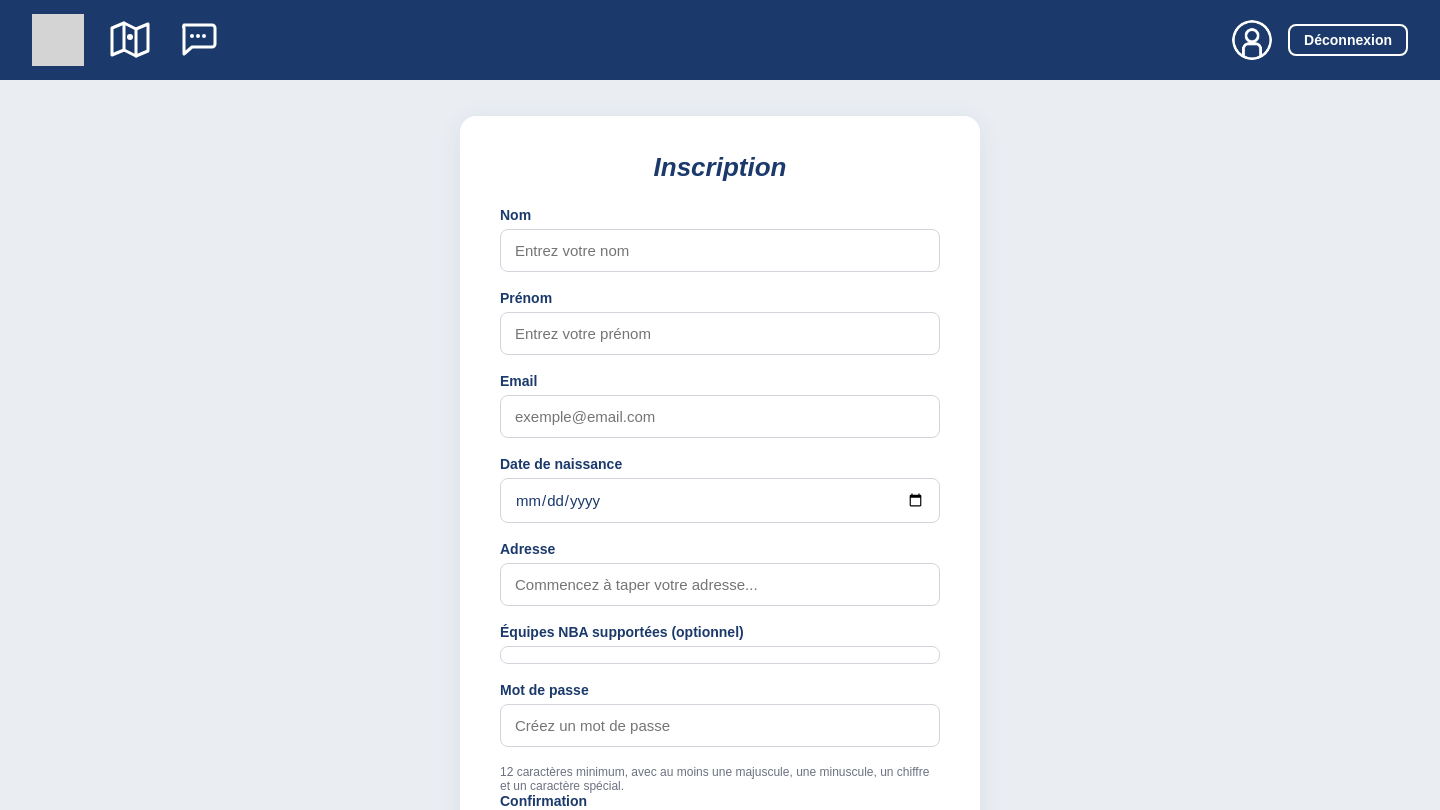
Test: RegisterPage › affiche une erreur si les mots de passe diffèrent
The image size is (1440, 810).
Type "Dupont" into the field with placeholder "Entrez votre nom" at (720, 250), box top-left (500, 229), bottom-right (940, 272)
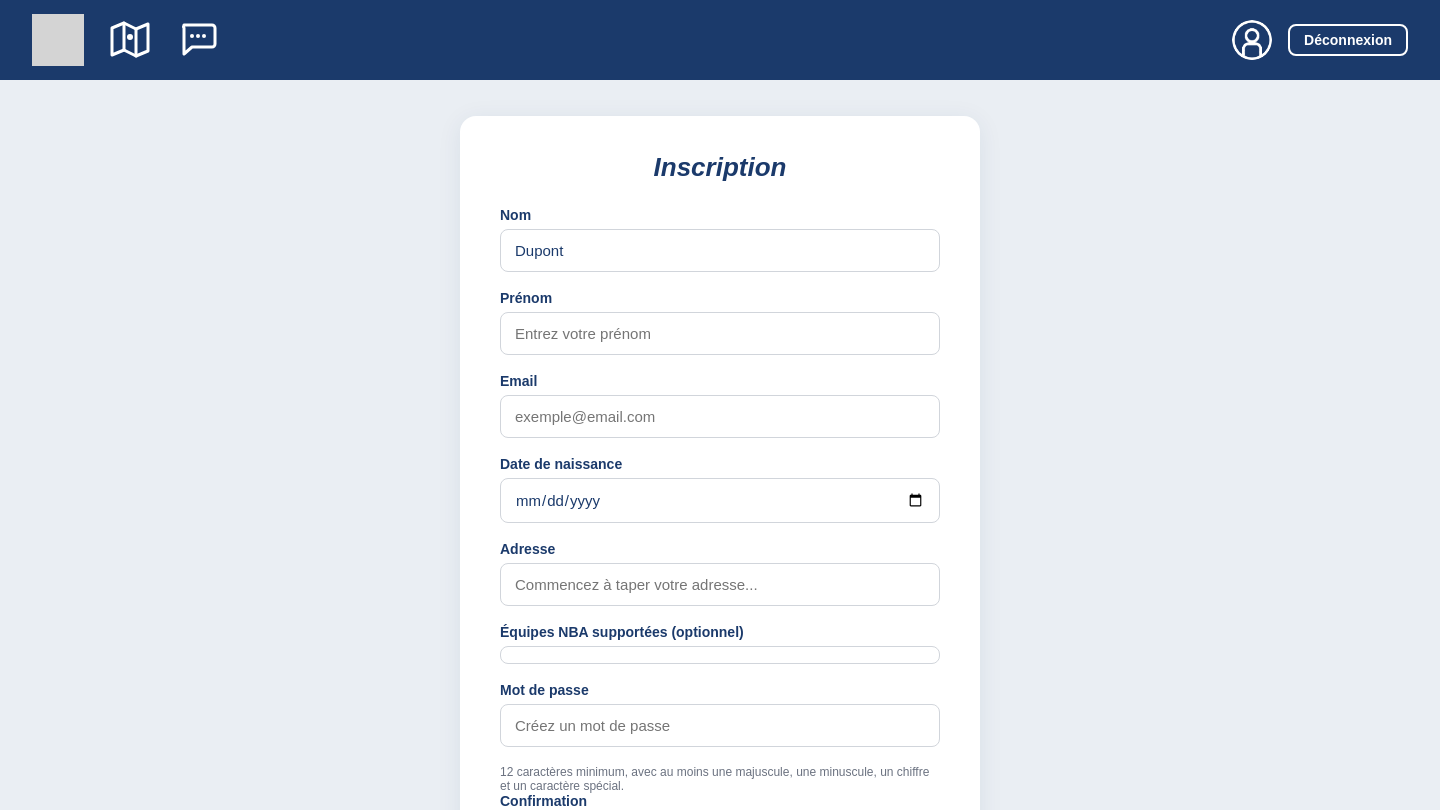
Type "Jean" into the field with placeholder "Entrez votre prénom" at (720, 334), box top-left (500, 312), bottom-right (940, 355)
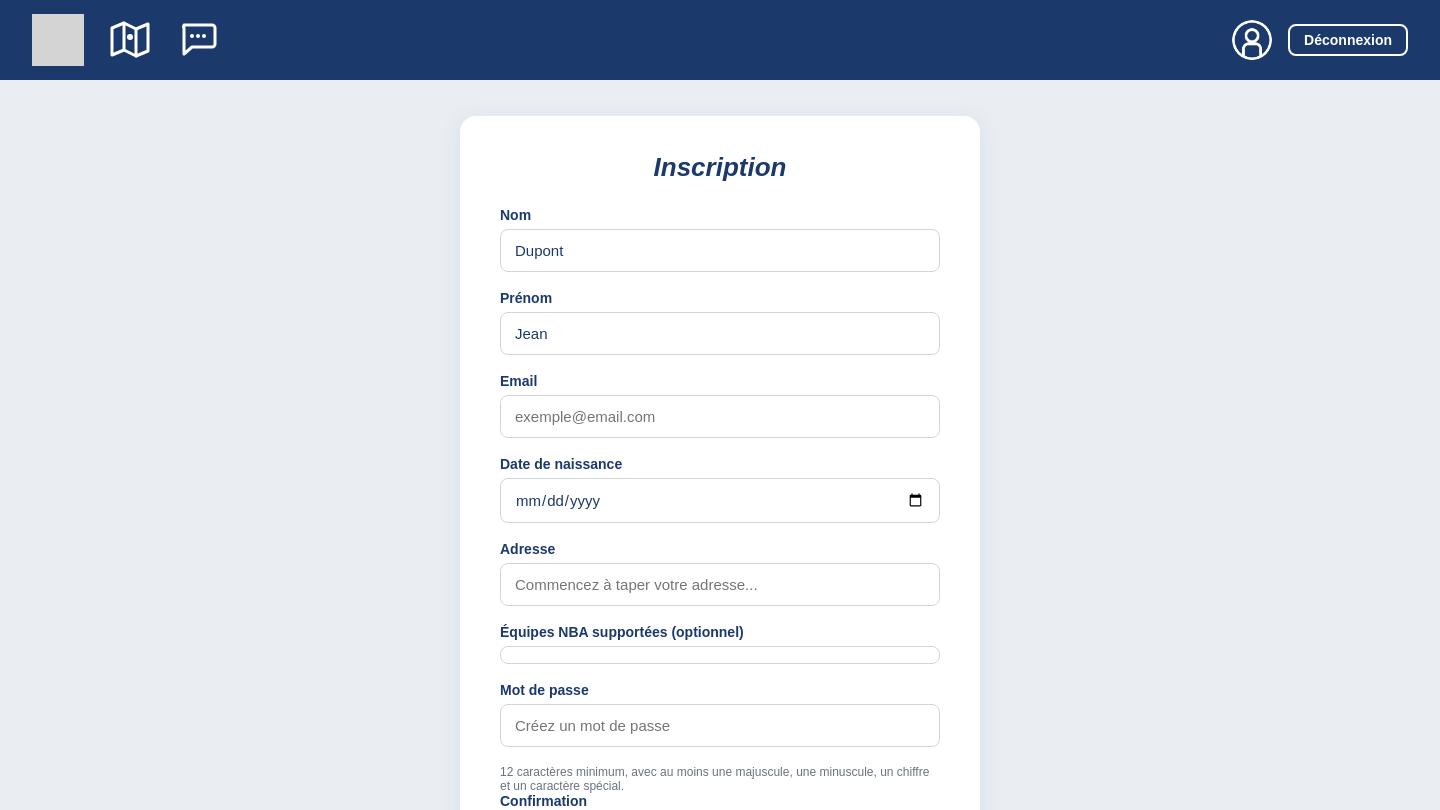
Type "a@b.com" into the field with placeholder "exemple@email.com" at (720, 416), box top-left (500, 395), bottom-right (940, 438)
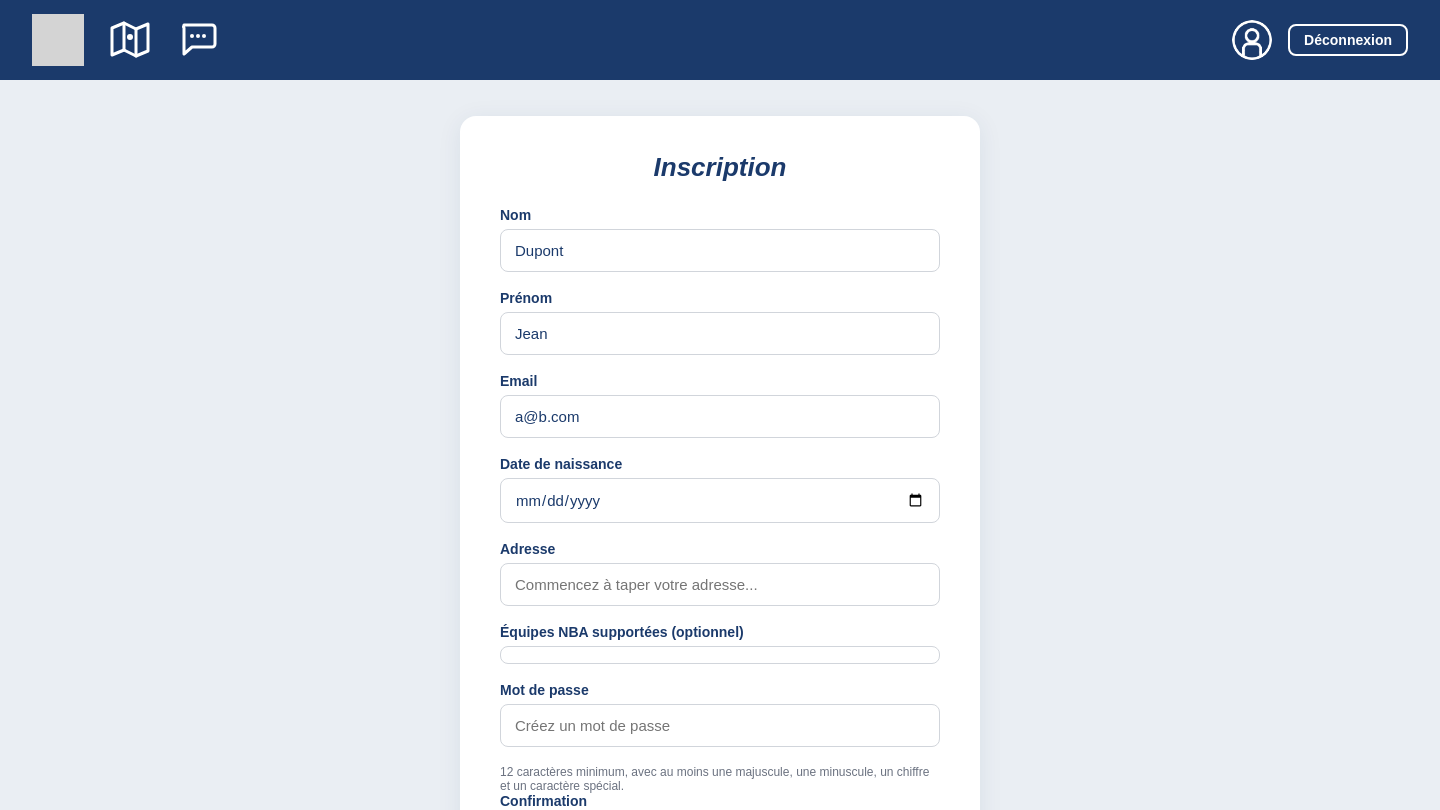
Type "Password123!@xx" into the password field with placeholder "Créez un mot de passe" at (720, 726), box top-left (500, 704), bottom-right (940, 747)
(page scrolled)
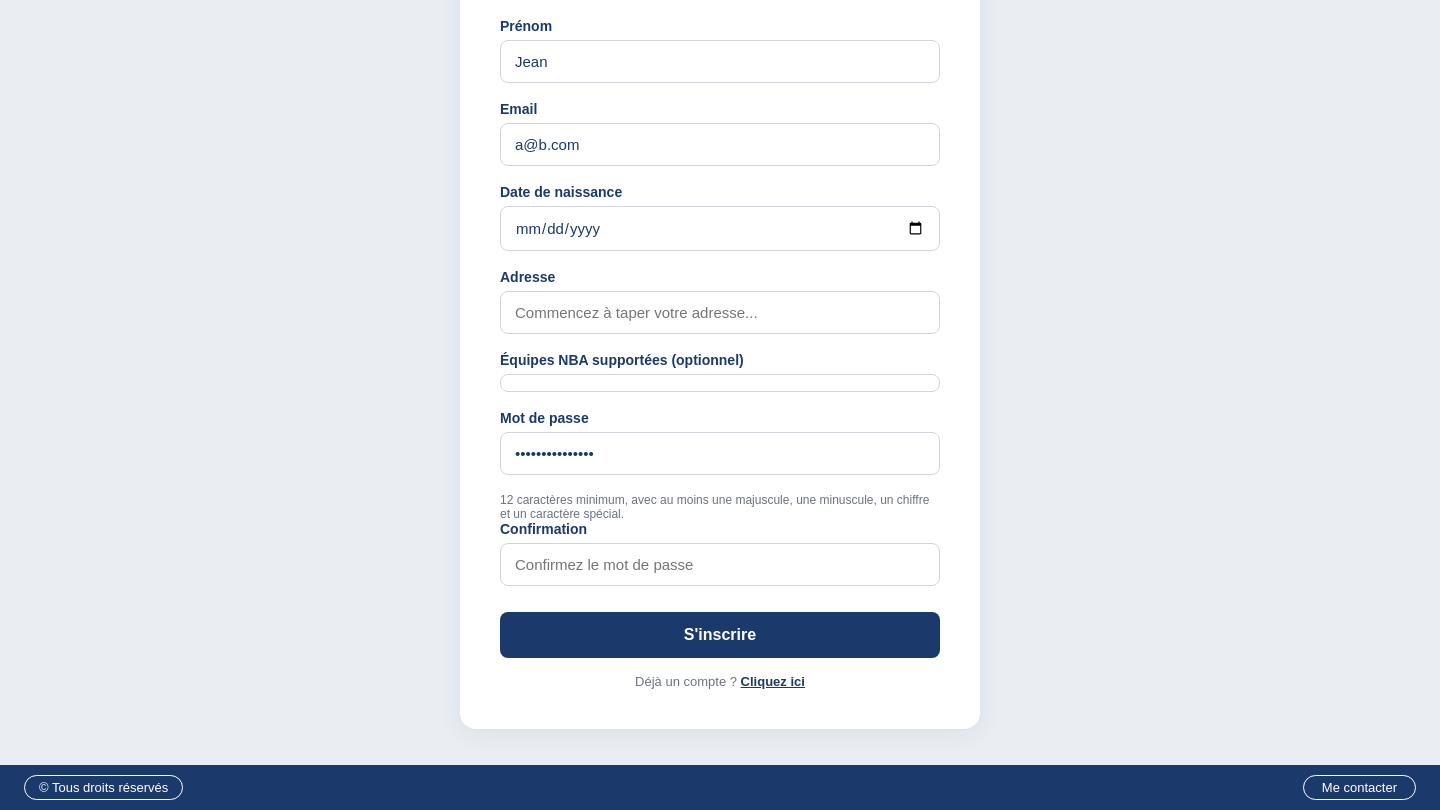
Type "different" into the password field with placeholder "Confirmez le mot de passe" at (720, 564), box top-left (500, 543), bottom-right (940, 586)
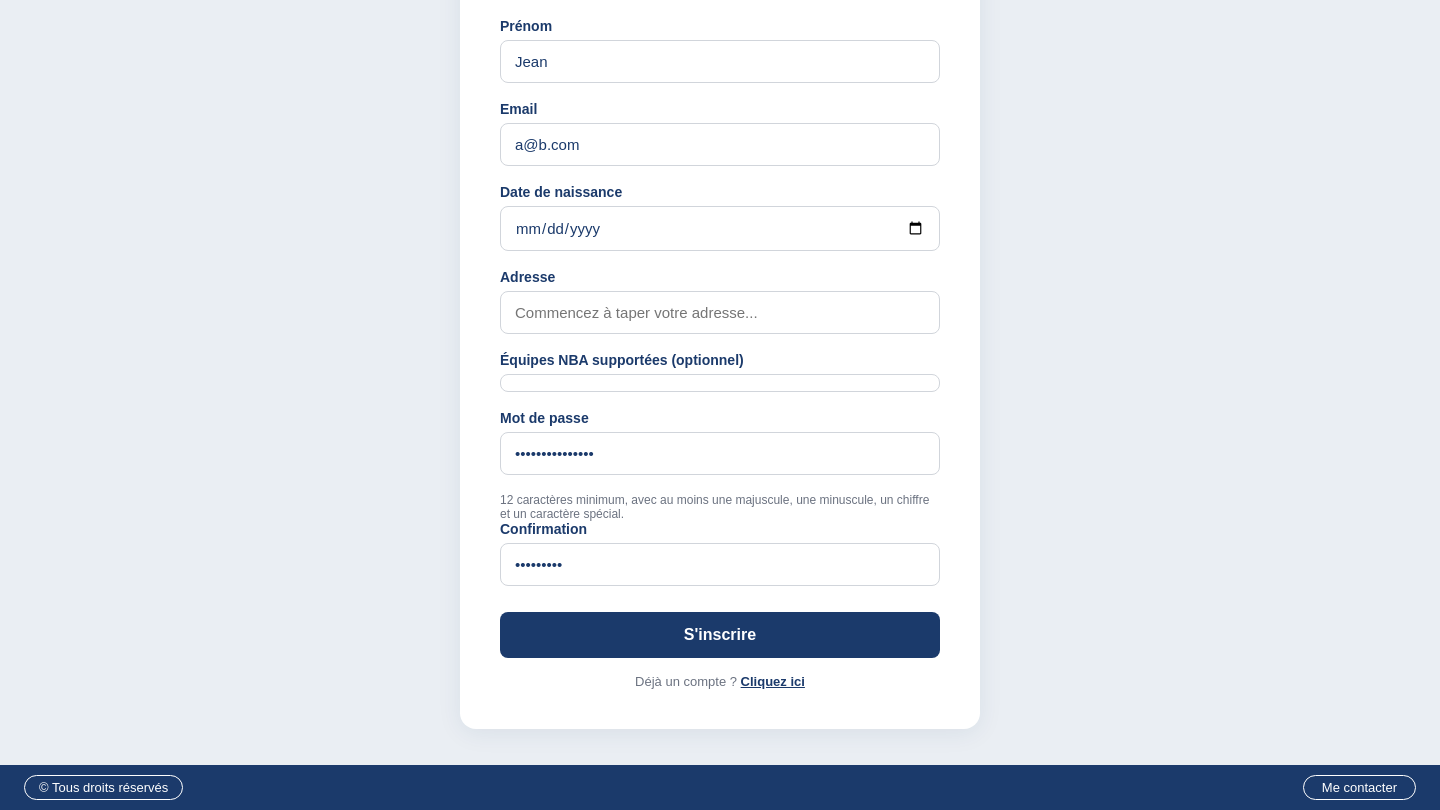
Click the button "S'inscrire" at (720, 635), box top-left (500, 612), bottom-right (940, 658)
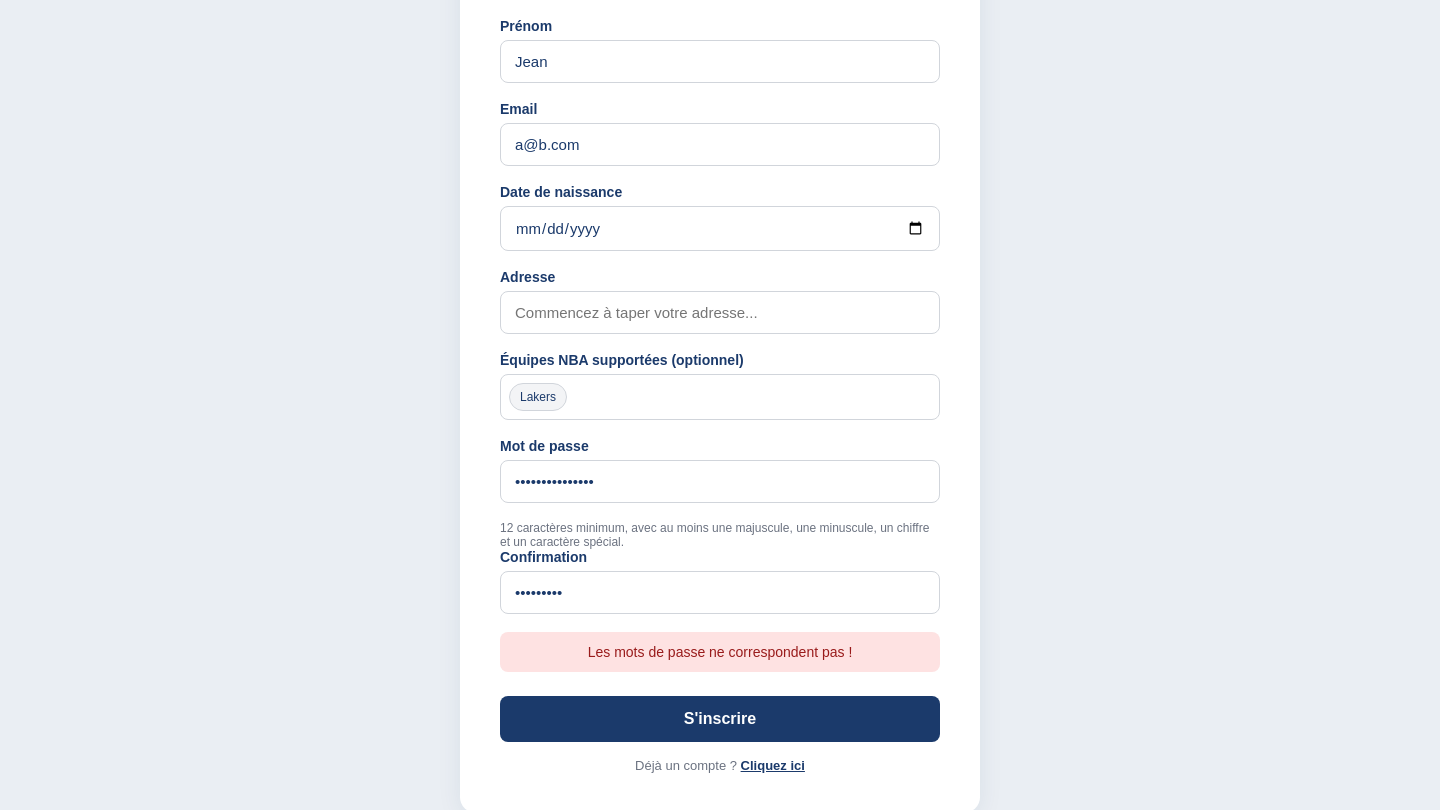
Expected: the text "Les mots de passe ne correspondent pas !" is shown, top-left (500, 632), bottom-right (940, 672)
